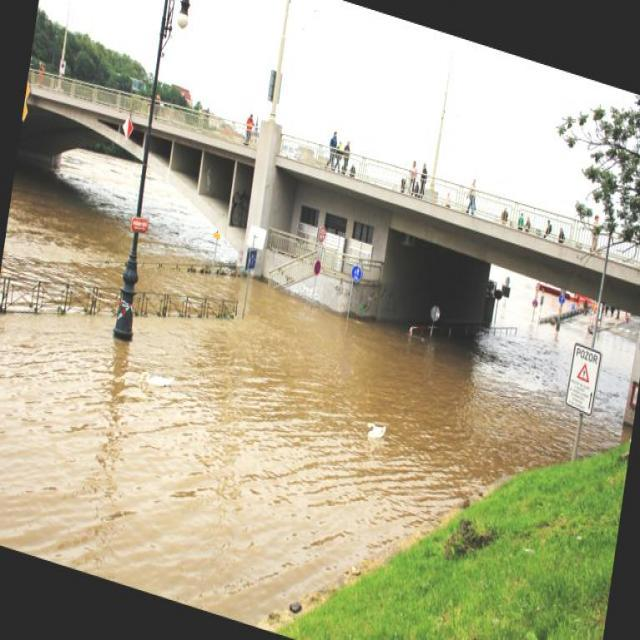flood: (0, 197, 625, 639)
